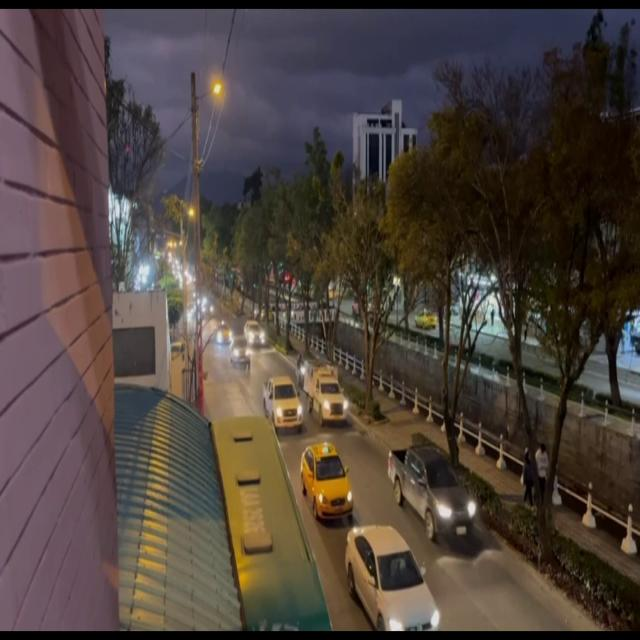CMT: (389, 448, 475, 535), (262, 374, 303, 427), (314, 371, 349, 426)
SED: (304, 449, 351, 522)
